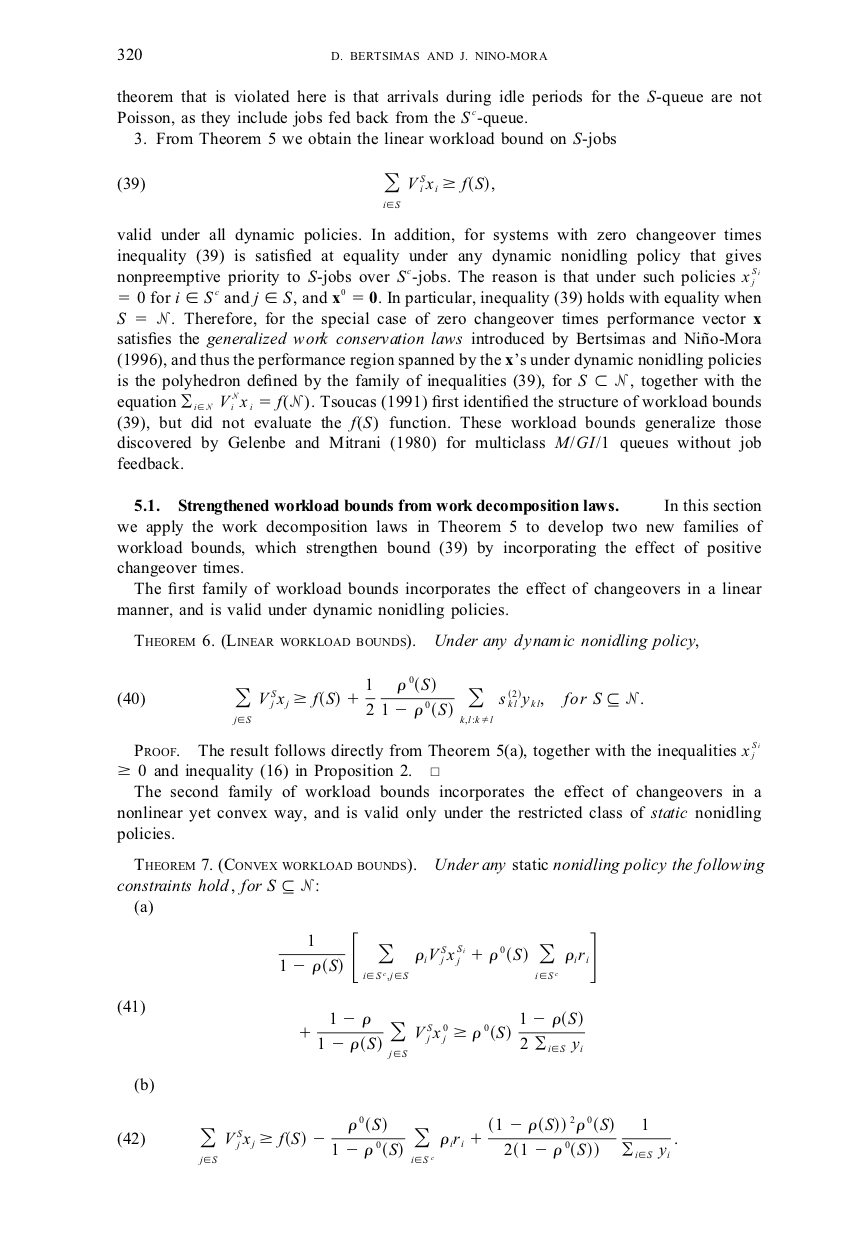formula: (117, 999, 584, 1059), (117, 1115, 676, 1165), (117, 675, 642, 725), (278, 931, 595, 983), (117, 173, 494, 208)
